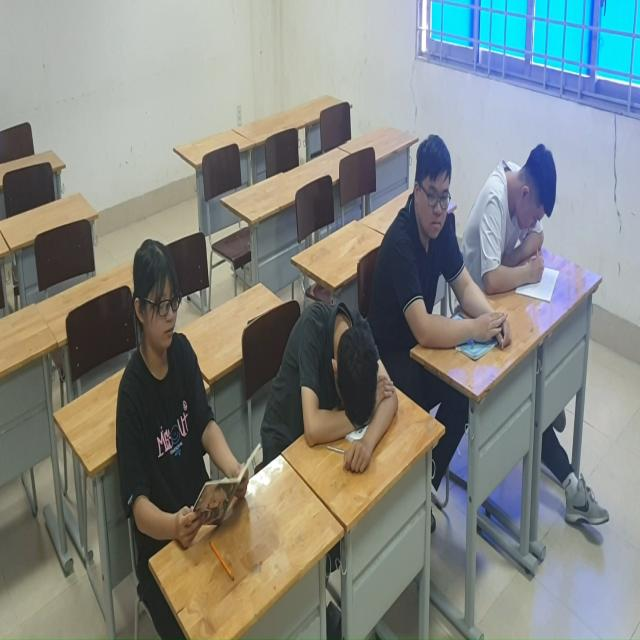read: (115, 236, 264, 544), (386, 134, 514, 359), (473, 138, 566, 312)
sleep: (265, 295, 402, 472)
